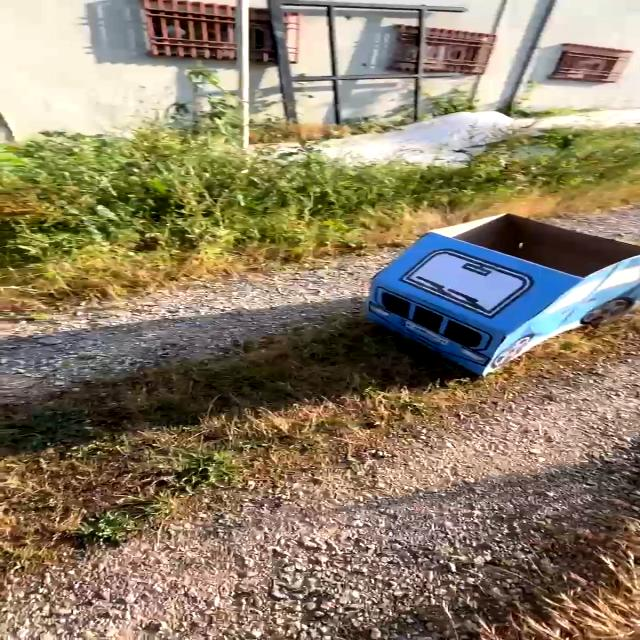blue_car: (311, 198, 640, 415)
